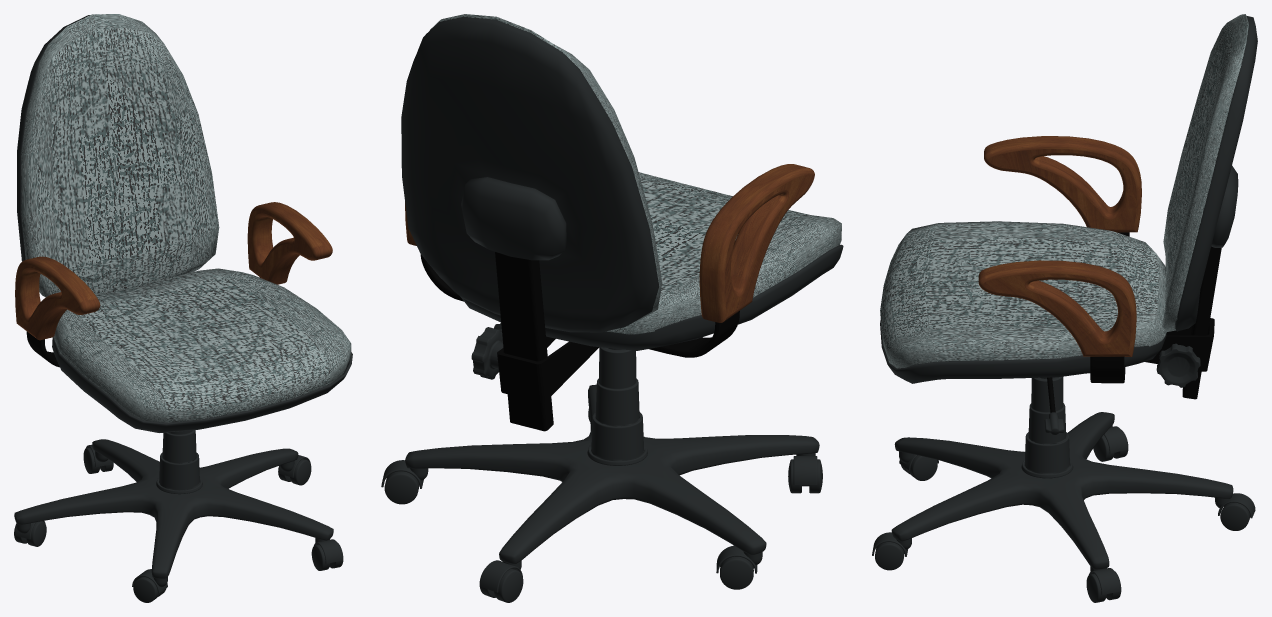
Rendered from office_chair.glb.
3 renders of one model, left to right at view 1: azimuth 30°, elevation 25°; view 2: azimuth 150°, elevation 25°; view 3: azimuth 270°, elevation 25°, orthographic. The views are drawn at different scales.
Visible parts, largest first — view 1: Cube, Cube_1, Cylinder, Низ_сидения_2, Выдавливание, Cone, Закругление_1, Закругление_2, Низ_сидения, Шапка_1, Шапка_2, Oil_Tank (+2 smaller); view 2: Низ_сидения, Cylinder, Cube_1, Стойка_спинки, Cone, Низ_сидения_2, Выдавливание, Extrude_NURBS.2, Закругление_1, Cube, Шапка_1, Симметрия.1 (+7 smaller); view 3: Cube_1, Cylinder, Cube, Низ_сидения, Низ_сидения_2, Закругление_1, Закругление_2, Cone, Выдавливание, Шапка_2, Шапка_1, Стойка_спинки (+8 smaller).
Boxes of the visible parts, bbox=[...] form: Cube: bbox=[21, 14, 219, 297]; Cube_1: bbox=[53, 268, 351, 422]; Cylinder: bbox=[14, 439, 333, 578]; Низ_сидения_2: bbox=[52, 337, 352, 432]; Выдавливание: bbox=[25, 202, 330, 340]; Cone: bbox=[156, 430, 202, 494]; Закругление_1: bbox=[15, 202, 332, 340]; Закругление_2: bbox=[37, 205, 318, 337]; Низ_сидения: bbox=[17, 15, 89, 261]; Шапка_1: bbox=[15, 264, 80, 335]; Шапка_2: bbox=[248, 210, 312, 280]; Oil_Tank: bbox=[133, 577, 166, 602]; Низ_сидения: bbox=[401, 16, 659, 332]; Cylinder: bbox=[405, 384, 819, 563]; Cube_1: bbox=[606, 172, 841, 334]; Стойка_спинки: bbox=[495, 252, 553, 431]; Cone: bbox=[587, 347, 647, 465]; Низ_сидения_2: bbox=[460, 244, 843, 350]; Выдавливание: bbox=[408, 164, 806, 322]; Extrude_NURBS.2: bbox=[497, 336, 599, 402]; Закругление_1: bbox=[405, 167, 814, 322]; Cube: bbox=[430, 14, 662, 322]; Шапка_1: bbox=[724, 174, 813, 317]; Симметрия.1: bbox=[420, 254, 739, 357]; Cube_1: bbox=[880, 221, 1166, 368]; Cylinder: bbox=[891, 412, 1233, 569]; Cube: bbox=[1162, 14, 1248, 332]; Низ_сидения: bbox=[1175, 16, 1257, 331]; Низ_сидения_2: bbox=[880, 320, 1166, 383]; Закругление_1: bbox=[978, 136, 1136, 356]; Закругление_2: bbox=[980, 142, 1141, 331]; Cone: bbox=[1021, 376, 1073, 478]; Выдавливание: bbox=[978, 136, 1141, 337]; Шапка_2: bbox=[988, 149, 1136, 229]; Шапка_1: bbox=[983, 273, 1131, 353]; Стойка_спинки: bbox=[1182, 246, 1221, 399].
Bounding box in the file's own units: 650 × 955 × 664.
4 materials, 2 textured.
